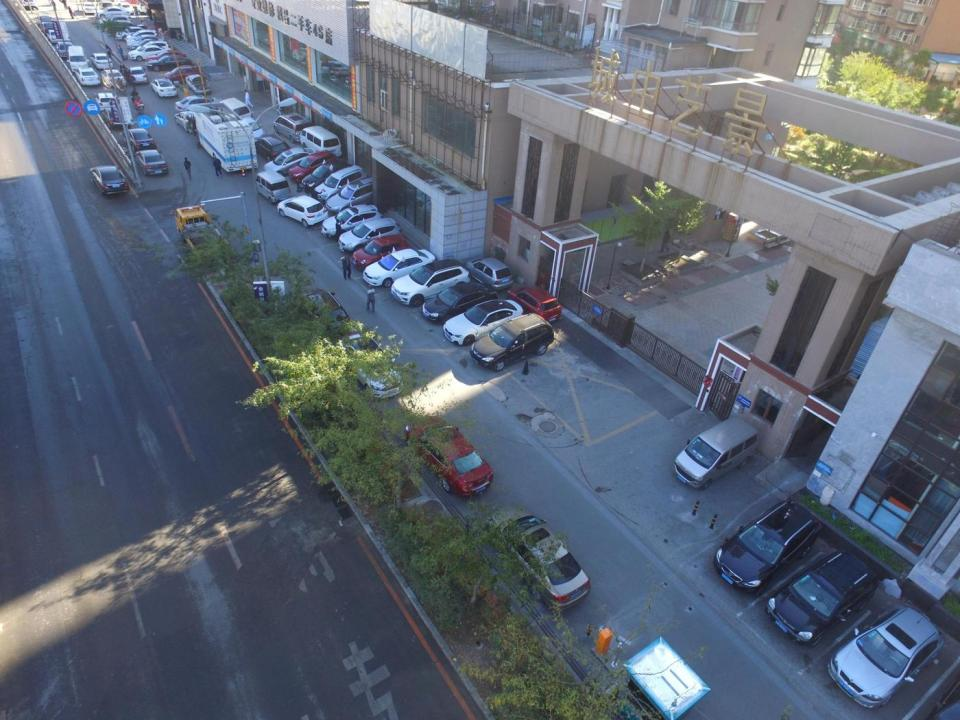car: (829, 601, 947, 710), (764, 549, 880, 648), (716, 495, 822, 595), (485, 507, 590, 603), (404, 410, 494, 500), (469, 318, 560, 370), (334, 333, 404, 399), (441, 298, 524, 344), (392, 262, 475, 307), (423, 282, 500, 323), (360, 248, 436, 288), (296, 288, 352, 337), (338, 216, 403, 256), (349, 234, 410, 272), (313, 164, 368, 206), (506, 284, 562, 323), (328, 176, 386, 212), (262, 145, 321, 179), (288, 151, 339, 190), (323, 207, 386, 238), (275, 195, 330, 227), (465, 255, 515, 290), (302, 158, 352, 192), (90, 165, 130, 196), (254, 134, 293, 162), (122, 127, 162, 152), (135, 149, 170, 177), (172, 96, 220, 116), (146, 56, 193, 74), (127, 46, 172, 64), (99, 13, 135, 35), (164, 66, 204, 84), (102, 107, 130, 131), (126, 34, 163, 52), (241, 116, 268, 140), (111, 20, 147, 38), (94, 6, 132, 23), (73, 66, 102, 87), (146, 50, 186, 65), (138, 40, 172, 57), (102, 14, 135, 31), (150, 78, 178, 98), (118, 26, 149, 43), (185, 75, 211, 95), (89, 52, 114, 72), (176, 111, 199, 132), (102, 16, 134, 31), (126, 30, 162, 43), (132, 39, 162, 54), (95, 92, 117, 112), (56, 38, 78, 58), (102, 69, 126, 87), (129, 65, 149, 84), (45, 28, 66, 45), (40, 20, 59, 35), (118, 1, 134, 18), (22, 0, 43, 12), (82, 1, 98, 16), (34, 14, 52, 26), (99, 1, 116, 12)
truck: (192, 105, 260, 174), (172, 204, 231, 263)
van: (671, 412, 759, 495), (299, 124, 341, 161), (271, 112, 310, 144), (252, 172, 290, 204), (220, 97, 255, 126), (67, 43, 91, 72)
